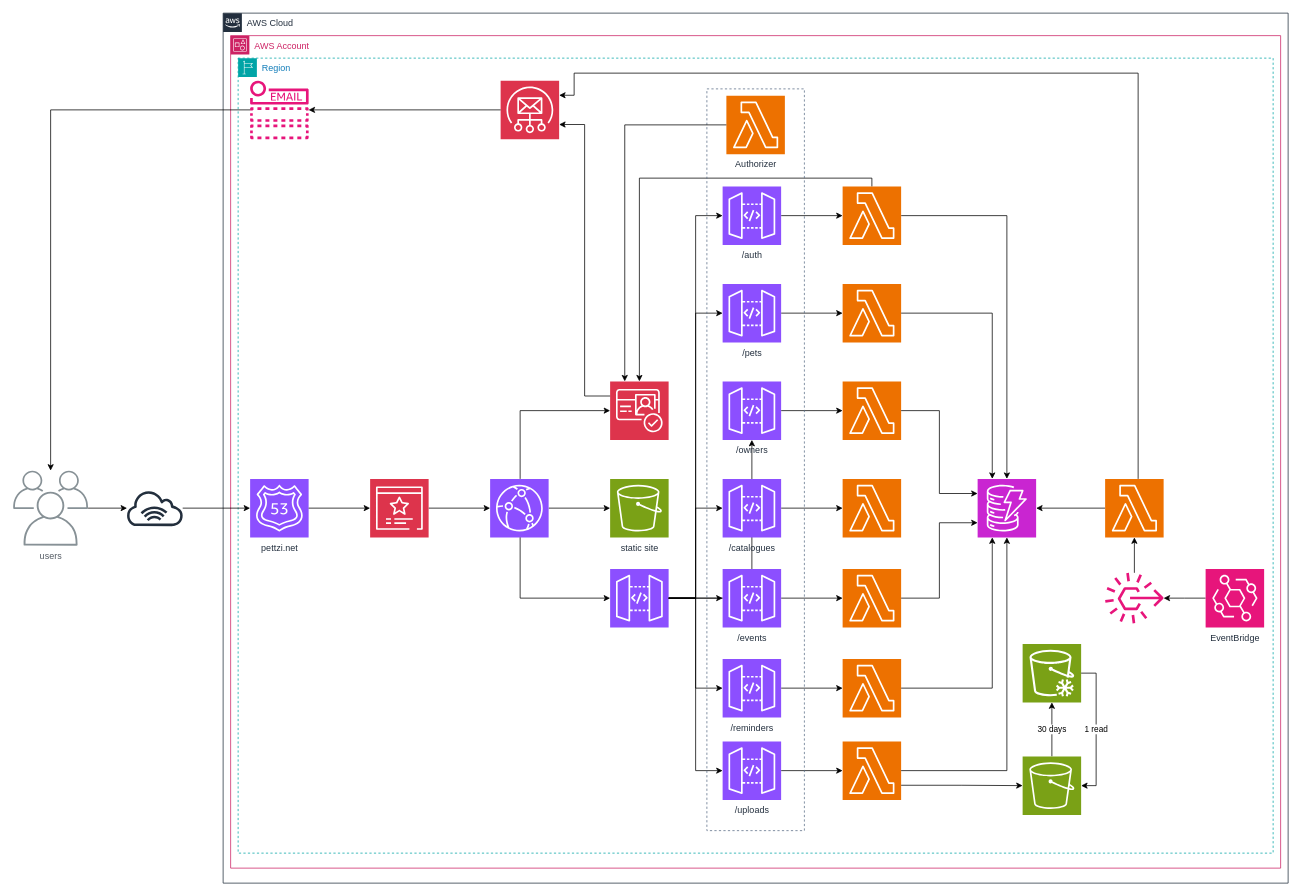
Image size: 1301x896. Some labels were removed from this diagram. The centre of each missing label's shape, as x and y in pixels:
"24h" goes at point 1134,597.
"Cognito" goes at point 639,410.
"Custom Domain" goes at point 639,597.
"docs media" goes at point 1051,785.
"Email Notification" goes at point 279,109.
"HTTPS" goes at point 399,507.
"Internet" goes at point 154,508.
"SES" goes at point 529,109.
